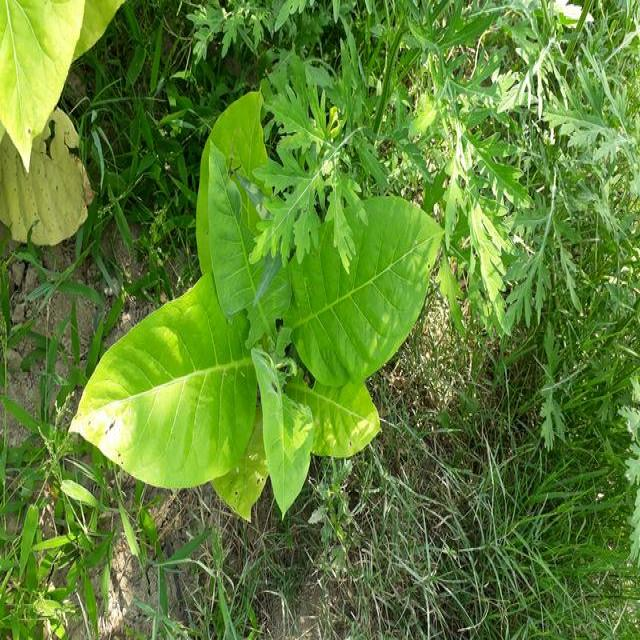crop: (86, 89, 417, 499), (4, 2, 101, 249)
